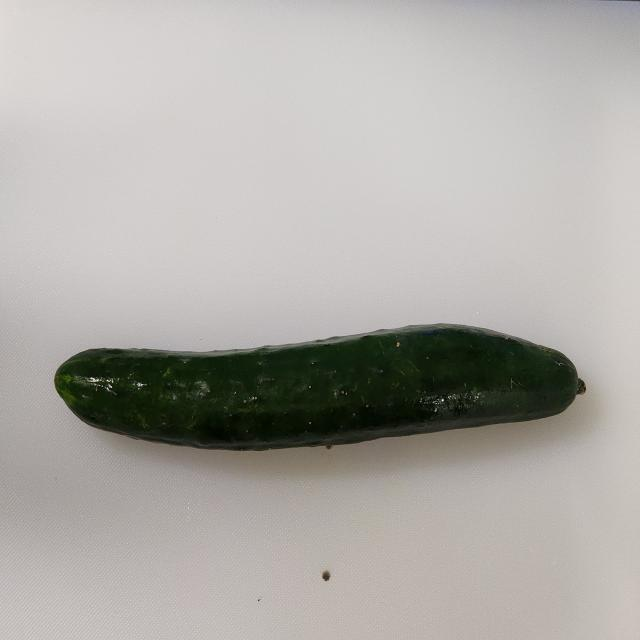cucumber: (54, 322, 586, 451)
